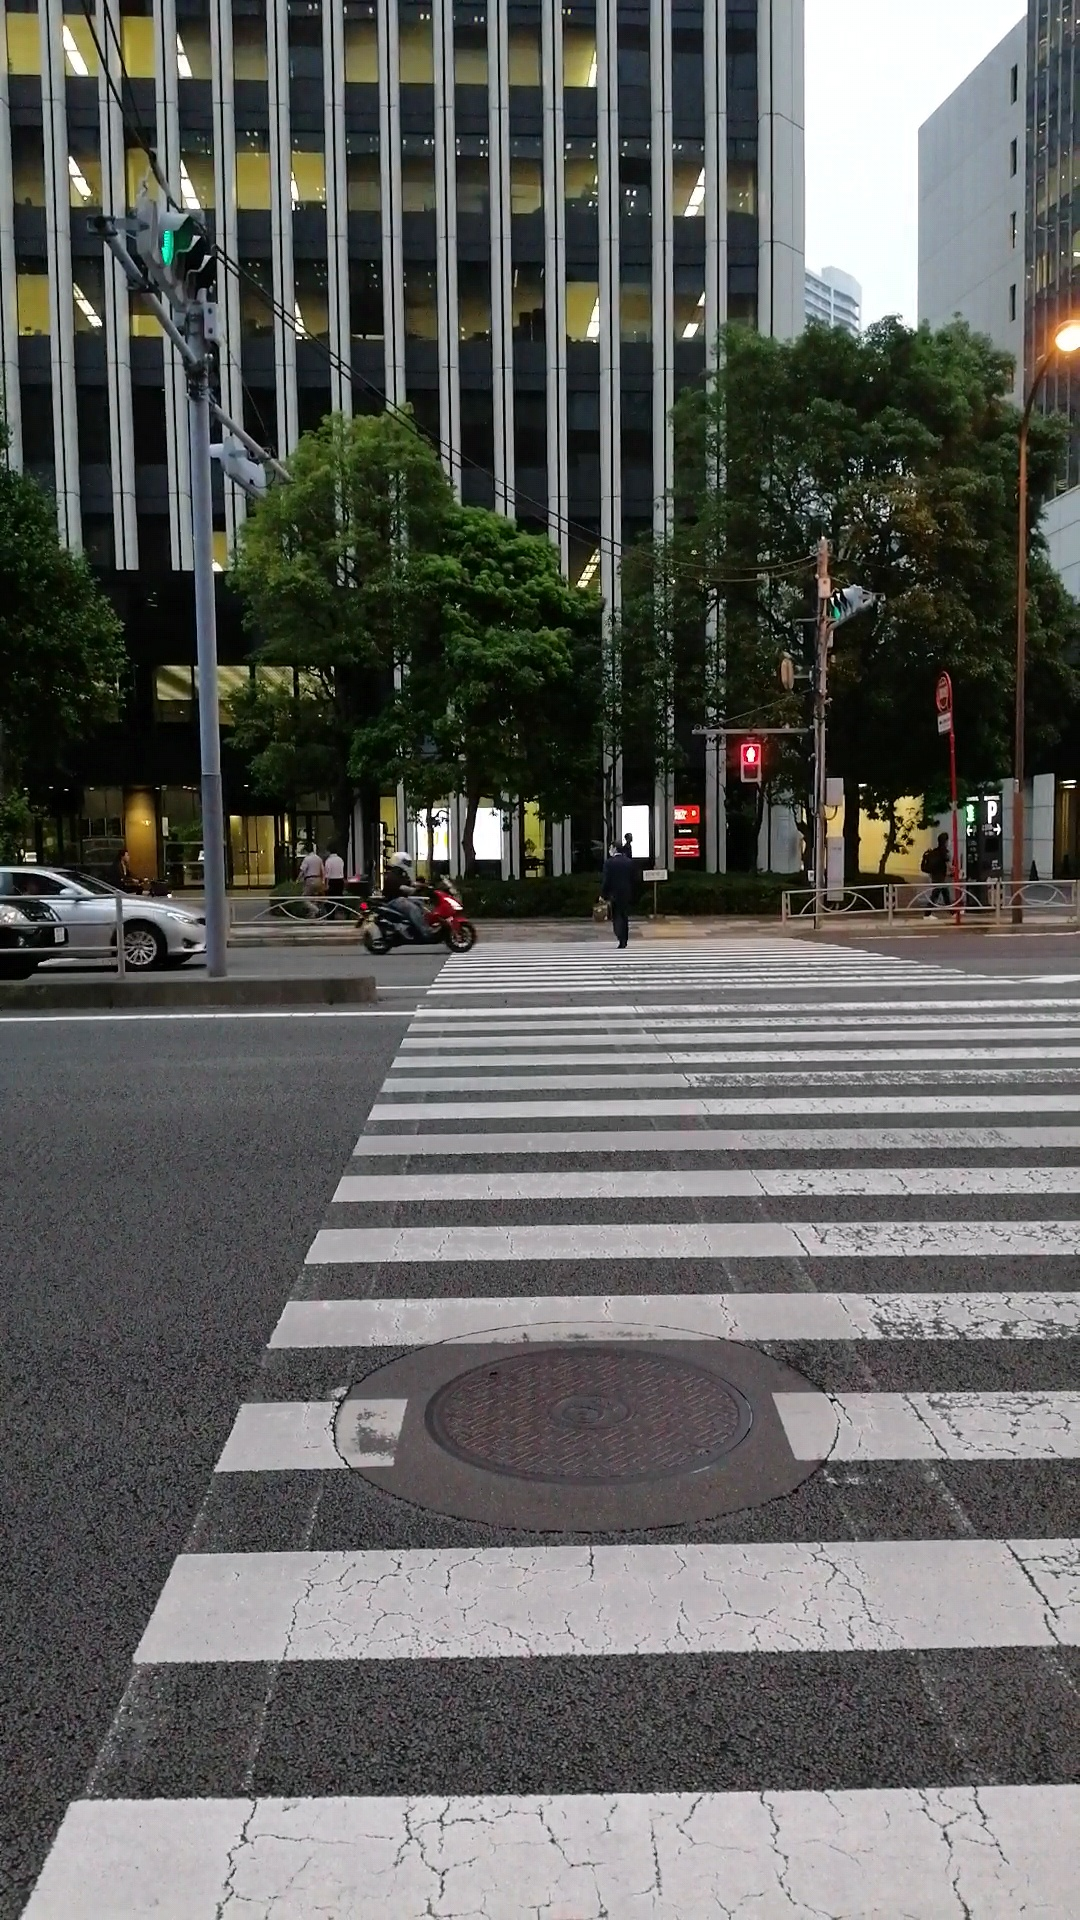red: (738, 742, 760, 783)
